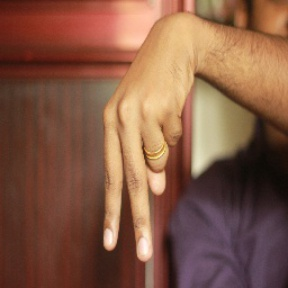Y: (95, 72, 191, 265)
